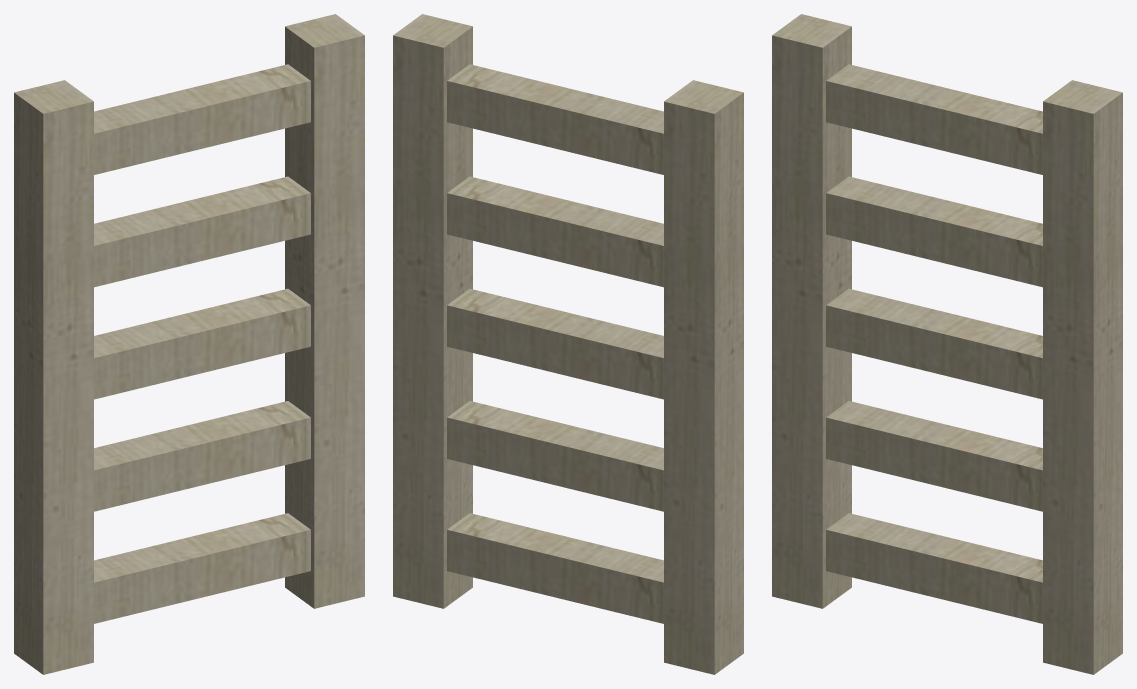
The model's file is ladder_shielded.glb.
3 views of the same model, side by side, from view 1: azimuth 30°, elevation 25°; view 2: azimuth 150°, elevation 25°; view 3: azimuth 330°, elevation 25° (orthographic).
Parts seen in each view (by area): view 1: ladder; view 2: ladder; view 3: ladder.
Boxes of the visible parts, x1=… form: ladder: x1=14, y1=14, x2=364, y2=674; ladder: x1=393, y1=14, x2=743, y2=674; ladder: x1=772, y1=14, x2=1122, y2=674.
Bounding box in the file's own units: 0.57 × 0.95 × 0.09.
1 material, 1 textured.
